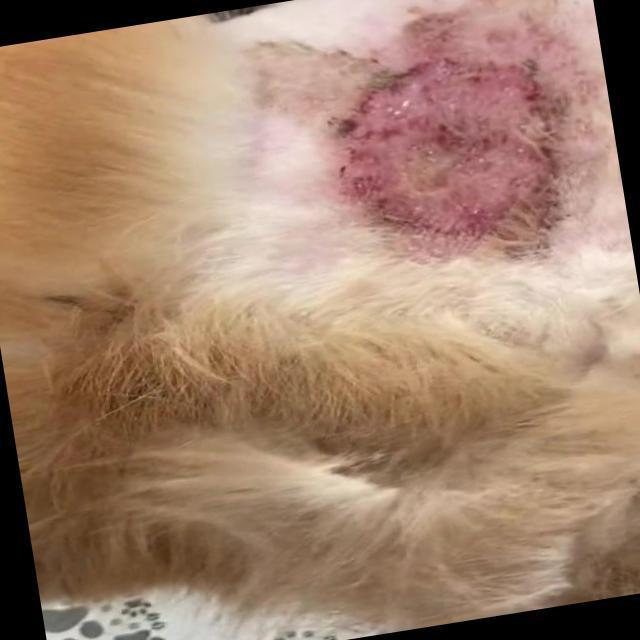allergic dermatitis: (337, 61, 569, 255)
